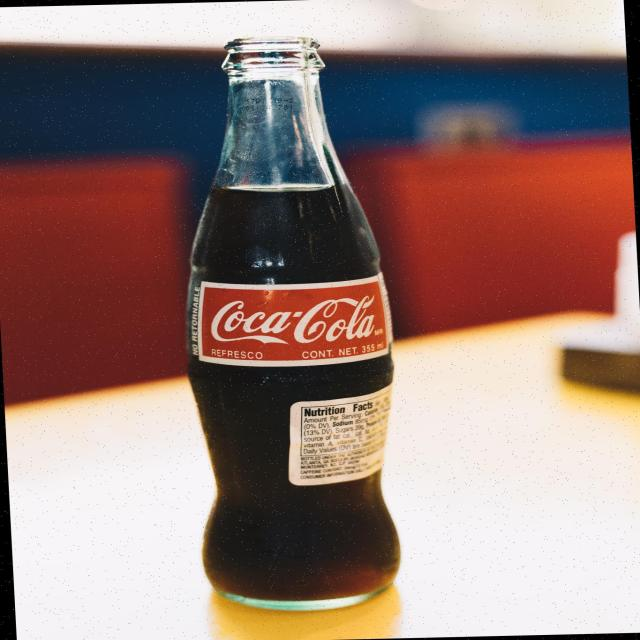coca-cola: (208, 292, 386, 351)
